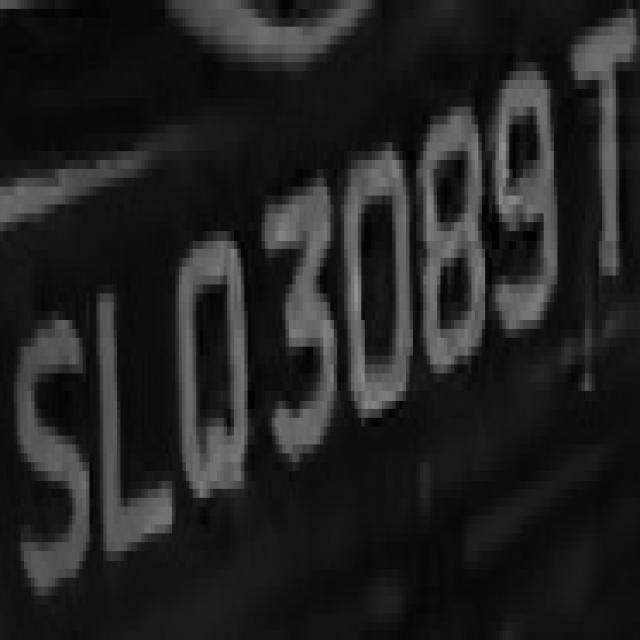0: (327, 134, 416, 462)
3: (262, 160, 341, 471)
8: (410, 89, 496, 391)
9: (485, 36, 561, 364)
L: (86, 249, 179, 578)
Q: (176, 205, 258, 551)
S: (10, 267, 93, 631)
T: (564, 18, 640, 302)
